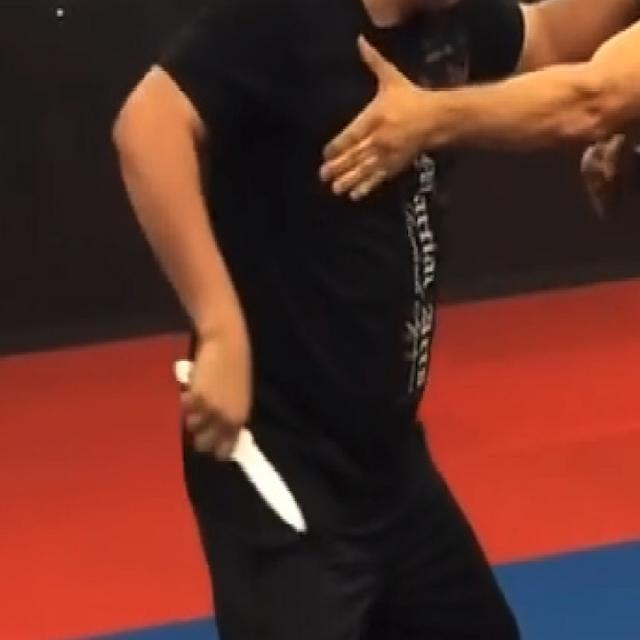suspicion: (107, 6, 628, 542), (238, 434, 310, 537), (170, 354, 190, 384)
